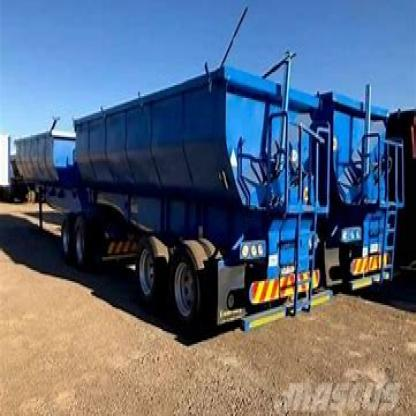dump_truck: (10, 57, 324, 342)
